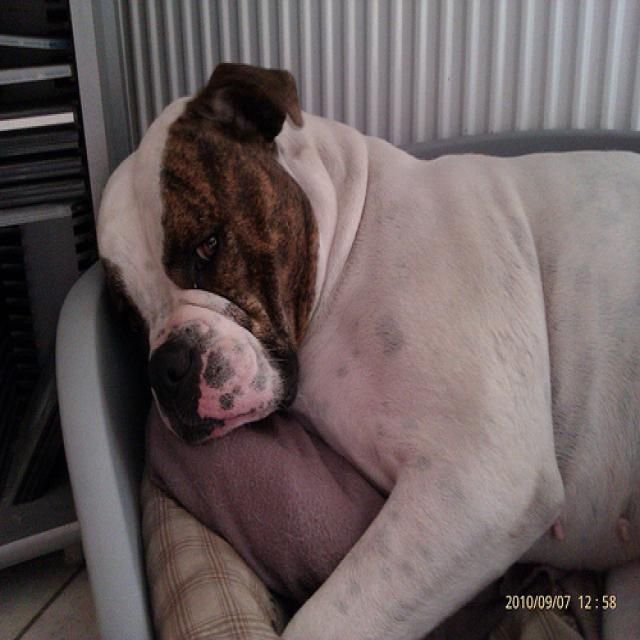dog-american_bulldog: (83, 49, 637, 637)
